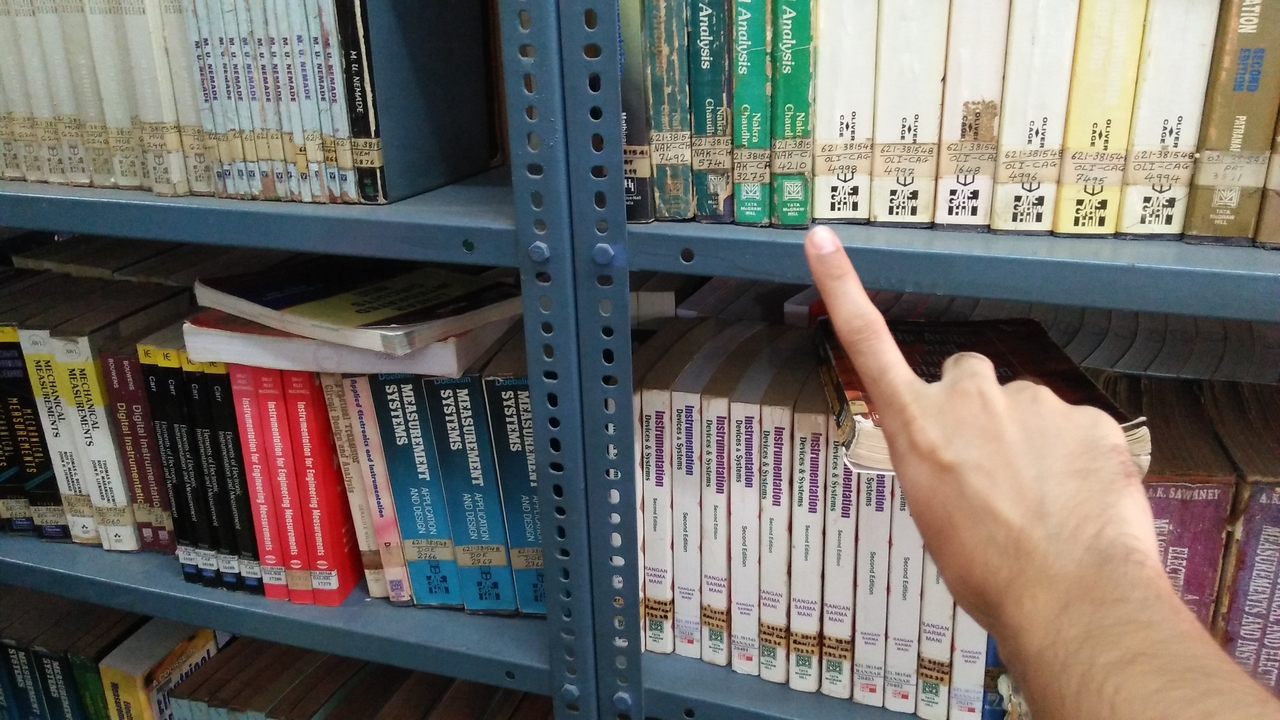fingertip: (800, 214, 852, 268)
